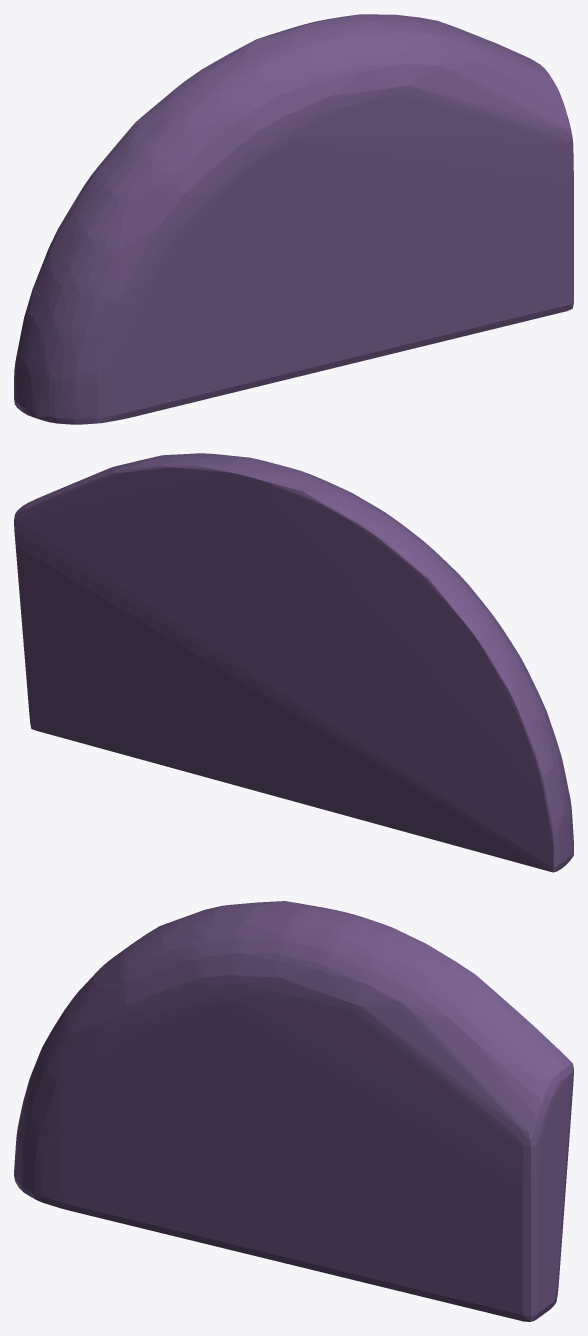
Rendered from right-toe-A-0_part_1.obj.
The picture shows the model from 3 angles, top to bottom: view 1: azimuth 30°, elevation 25°; view 2: azimuth 150°, elevation 25°; view 3: azimuth 330°, elevation 25°; orthographic projection. The views are drawn at different scales.
Bounding box in the file's own units: 0.0455 × 0.0262 × 0.00649.
